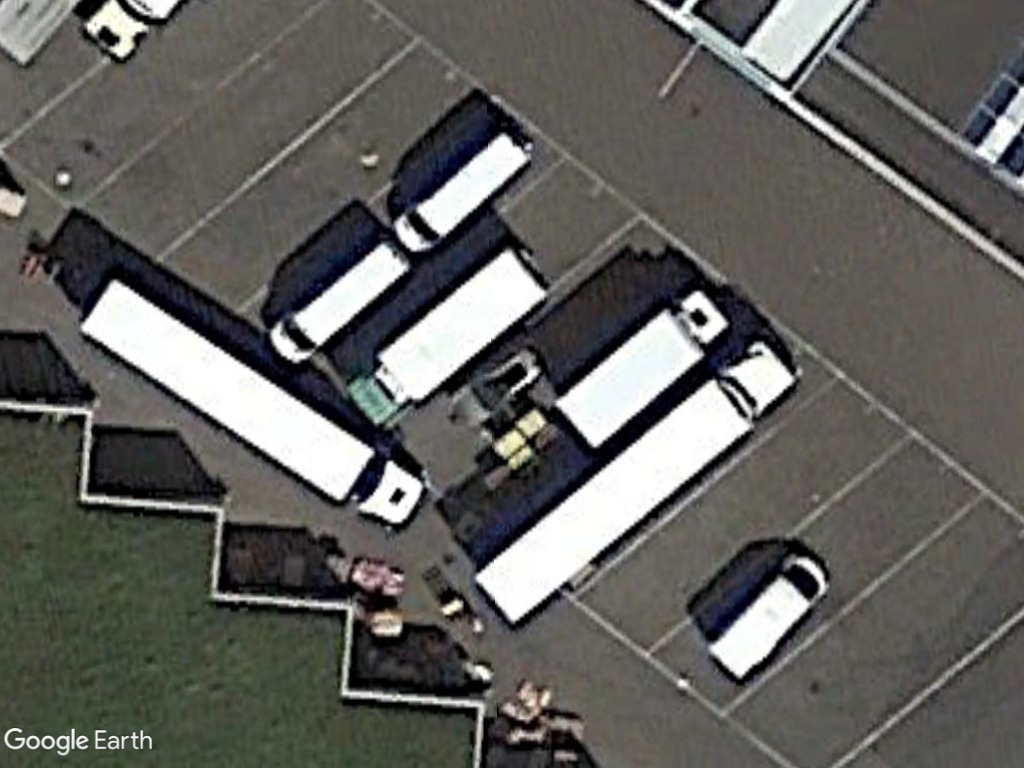longvehicle: (467, 341, 800, 632), (75, 273, 426, 535)
truck: (342, 240, 559, 431), (552, 286, 734, 453)
van: (392, 125, 534, 261), (266, 241, 409, 365), (704, 553, 833, 688)
